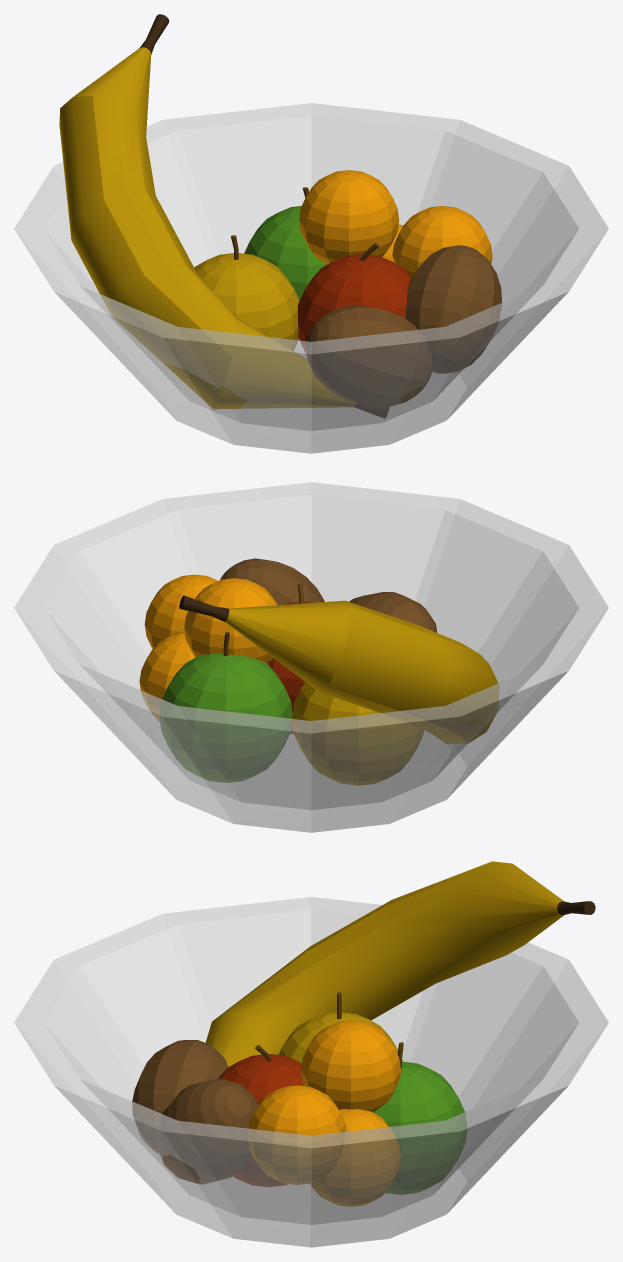
Rendered from Fruits.fbx.
The picture shows the model from 3 angles, top to bottom: view 1: azimuth 30°, elevation 25°; view 2: azimuth 150°, elevation 25°; view 3: azimuth 270°, elevation 25°; orthographic projection.
Parts seen in each view (by area): view 1: pCylinder1, pCylinder8, pSphere5, pSphere4, pSphere2, pCylinder6, pCylinder7, pSphere3, pCylinder5; view 2: pCylinder1, pCylinder8, pCylinder5, pCylinder6, pSphere2, pSphere3, pSphere4, pSphere1, pSphere5, pCylinder7; view 3: pCylinder1, pCylinder8, pSphere4, pCylinder5, pSphere3, pSphere2, pSphere1, pSphere5, pCylinder7, pCylinder6.
Boxes of the visible parts, box(x1,y1,x2,y2) form: pCylinder1: box(14, 103, 608, 453); pCylinder8: box(59, 14, 389, 418); pSphere5: box(306, 305, 432, 406); pSphere4: box(405, 245, 501, 373); pSphere2: box(299, 170, 399, 263); pCylinder6: box(194, 235, 299, 350); pCylinder7: box(297, 243, 411, 353); pSphere3: box(392, 206, 492, 277); pCylinder5: box(244, 187, 327, 300); pCylinder1: box(14, 482, 608, 832); pCylinder8: box(179, 595, 499, 743); pCylinder5: box(159, 632, 292, 782); pCylinder6: box(292, 682, 423, 785); pSphere2: box(184, 578, 277, 663); pSphere3: box(144, 574, 217, 648); pSphere4: box(220, 558, 324, 605); pSphere1: box(139, 633, 195, 721); pSphere5: box(349, 592, 437, 632); pCylinder7: box(268, 584, 311, 733); pCylinder1: box(14, 897, 608, 1247); pCylinder8: box(205, 861, 595, 1066); pSphere4: box(157, 1078, 258, 1184); pCylinder5: box(373, 1042, 467, 1194); pSphere3: box(248, 1085, 346, 1184); pSphere2: box(301, 1020, 400, 1112); pSphere1: box(310, 1109, 400, 1206); pSphere5: box(132, 1040, 227, 1153); pCylinder7: box(218, 1045, 303, 1186); pCylinder6: box(278, 992, 403, 1063).
Size of the model in its own units: 2 by 1.05 by 2.
